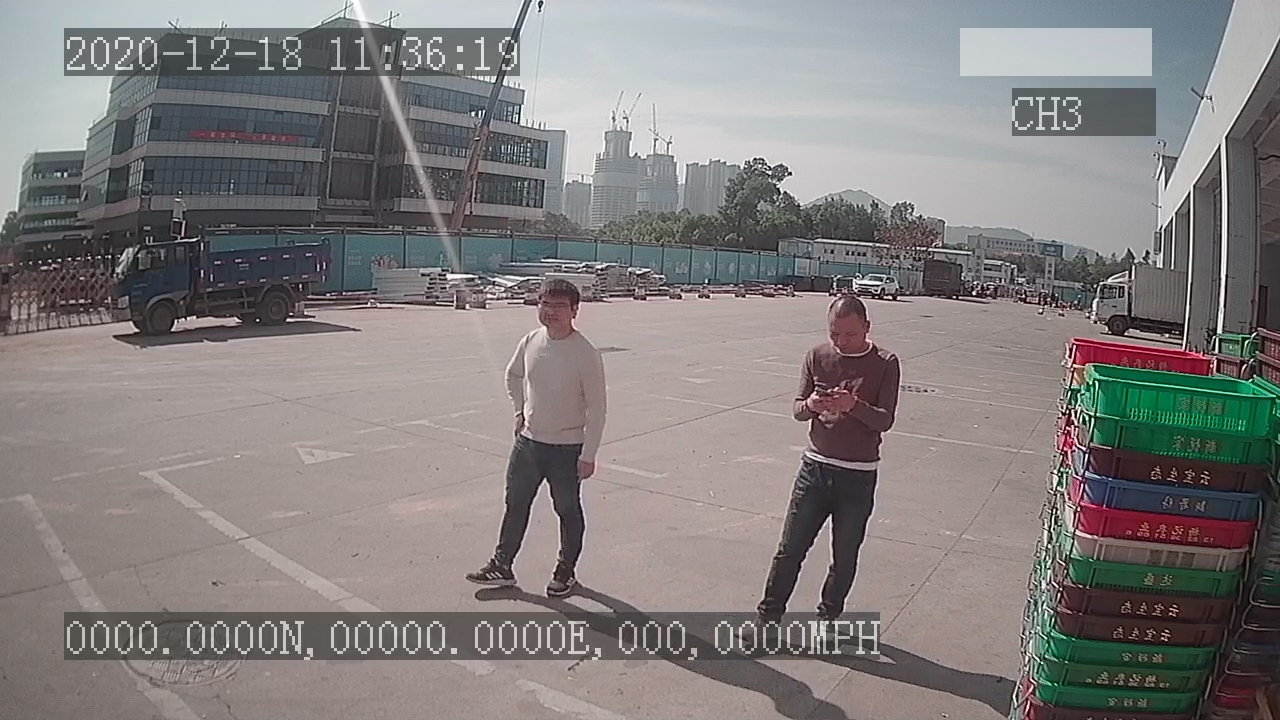person: (464, 278, 610, 599)
